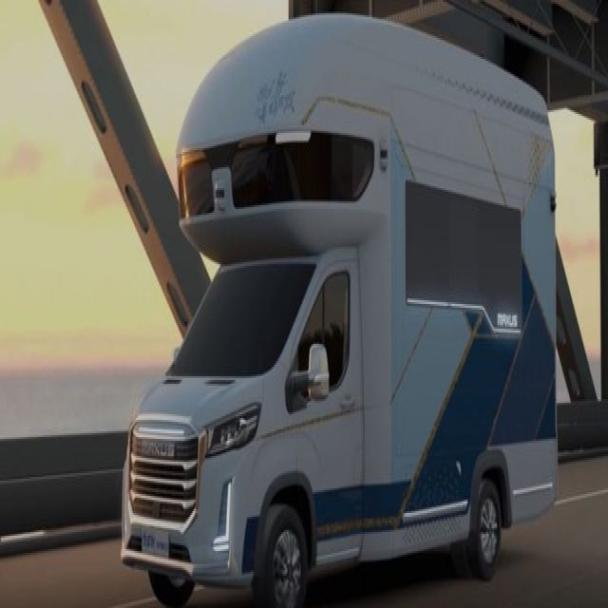Mobil: (117, 12, 564, 604)
